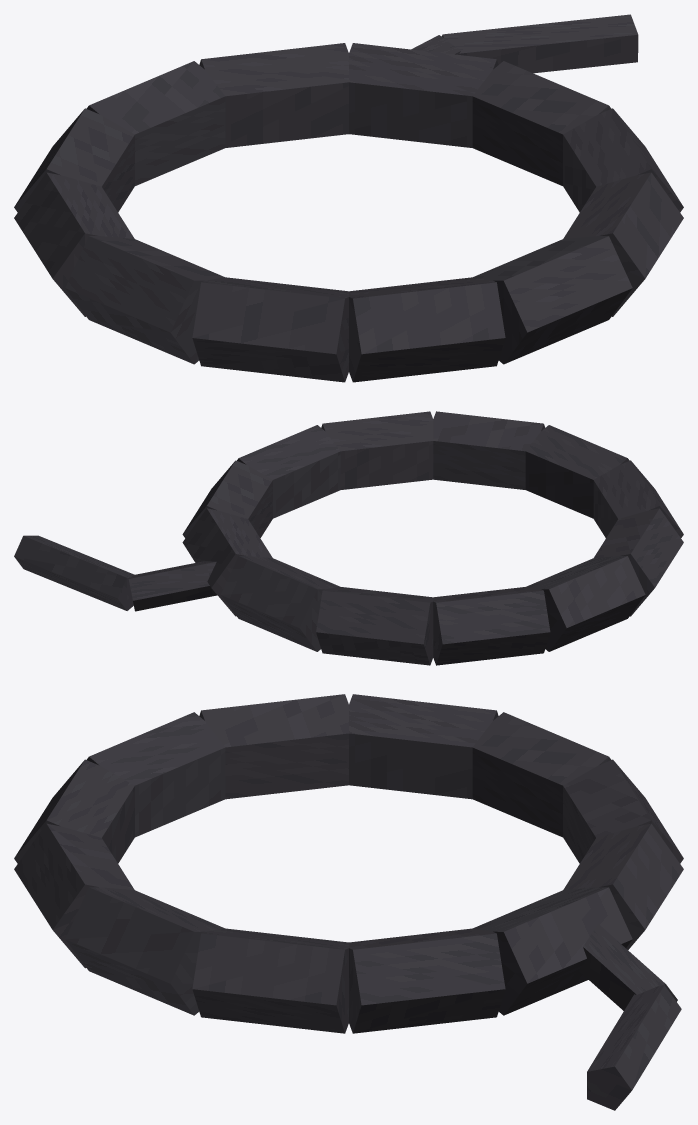
The model's file is judo_belt_black.glb.
3 views of the same model, one above another, from view 1: azimuth 30°, elevation 25°; view 2: azimuth 150°, elevation 25°; view 3: azimuth 270°, elevation 25° (orthographic). The views are drawn at different scales.
Parts seen in each view (by area): view 1: block_rolled cloth sash3, block_rolled cloth sash4, block_rolled cloth sash9, block_rolled cloth sash10, block_rolled cloth sash2, block_rolled cloth sash5, block_rolled cloth sash8, block_rolled cloth sash11, block_free end 1, block_rolled cloth sash1, block_rolled cloth sash6, block_rolled cloth sash0 (+1 smaller); view 2: block_rolled cloth sash8, block_rolled cloth sash7, block_rolled cloth sash1, block_rolled cloth sash2, block_rolled cloth sash9, block_rolled cloth sash6, block_rolled cloth sash3, block_rolled cloth sash0, block_free end 1, block_rolled cloth sash5, block_rolled cloth sash10, block_rolled cloth sash4 (+2 smaller); view 3: block_rolled cloth sash0, block_rolled cloth sash11, block_rolled cloth sash5, block_rolled cloth sash6, block_rolled cloth sash1, block_rolled cloth sash10, block_rolled cloth sash4, block_rolled cloth sash7, block_rolled cloth sash2, block_rolled cloth sash9, block_free end 1, block_rolled cloth sash3 (+2 smaller).
Part boxes in pixels (x1,y1,x2,y2): block_rolled cloth sash3: (349, 277, 505, 382); block_rolled cloth sash4: (192, 277, 348, 382); block_rolled cloth sash9: (199, 43, 348, 147); block_rolled cloth sash10: (349, 43, 498, 147); block_rolled cloth sash2: (473, 236, 632, 364); block_rolled cloth sash5: (65, 236, 224, 364); block_rolled cloth sash8: (86, 61, 225, 185); block_rolled cloth sash11: (472, 61, 611, 185); block_free end 1: (442, 14, 638, 73); block_rolled cloth sash1: (563, 172, 683, 316); block_rolled cloth sash6: (14, 172, 134, 316); block_rolled cloth sash0: (563, 108, 683, 212); block_rolled cloth sash8: (316, 587, 433, 665); block_rolled cloth sash7: (433, 587, 550, 665); block_rolled cloth sash1: (321, 411, 433, 489); block_rolled cloth sash2: (433, 411, 544, 489); block_rolled cloth sash9: (221, 556, 340, 651); block_rolled cloth sash6: (526, 556, 645, 651); block_rolled cloth sash3: (525, 425, 629, 518); block_rolled cloth sash0: (237, 425, 340, 518); block_free end 1: (14, 535, 134, 610); block_rolled cloth sash5: (594, 508, 683, 616); block_rolled cloth sash10: (182, 508, 272, 616); block_rolled cloth sash4: (593, 460, 683, 537); block_rolled cloth sash0: (192, 928, 348, 1033); block_rolled cloth sash11: (349, 928, 505, 1033); block_rolled cloth sash5: (199, 694, 348, 799); block_rolled cloth sash6: (349, 694, 498, 799); block_rolled cloth sash1: (65, 887, 224, 1015); block_rolled cloth sash10: (473, 887, 632, 1015); block_rolled cloth sash4: (86, 712, 225, 837); block_rolled cloth sash7: (472, 712, 611, 837); block_rolled cloth sash2: (14, 823, 134, 968); block_rolled cloth sash9: (563, 823, 683, 949); block_free end 1: (587, 985, 681, 1110); block_rolled cloth sash3: (14, 759, 134, 863).
Bounding box in the file's own units: 0.1512 × 0.0177 × 0.1238.
1 material, 1 textured.
